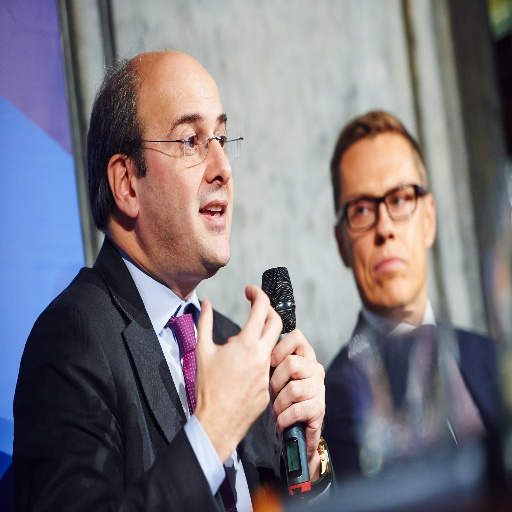hand: (193, 283, 283, 455), (263, 338, 327, 477)
